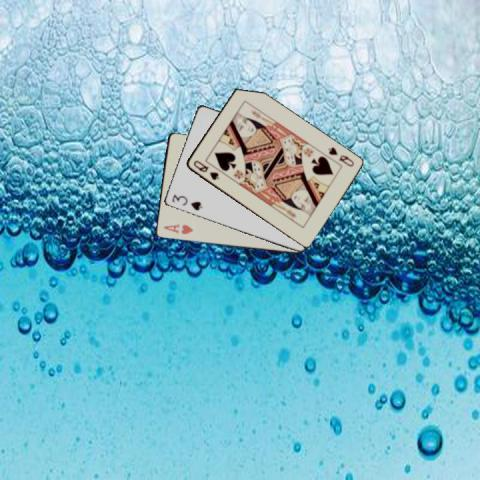3s: (169, 192, 203, 212)
Ah: (161, 221, 194, 236)
Qs: (190, 157, 220, 182), (326, 144, 356, 168)
